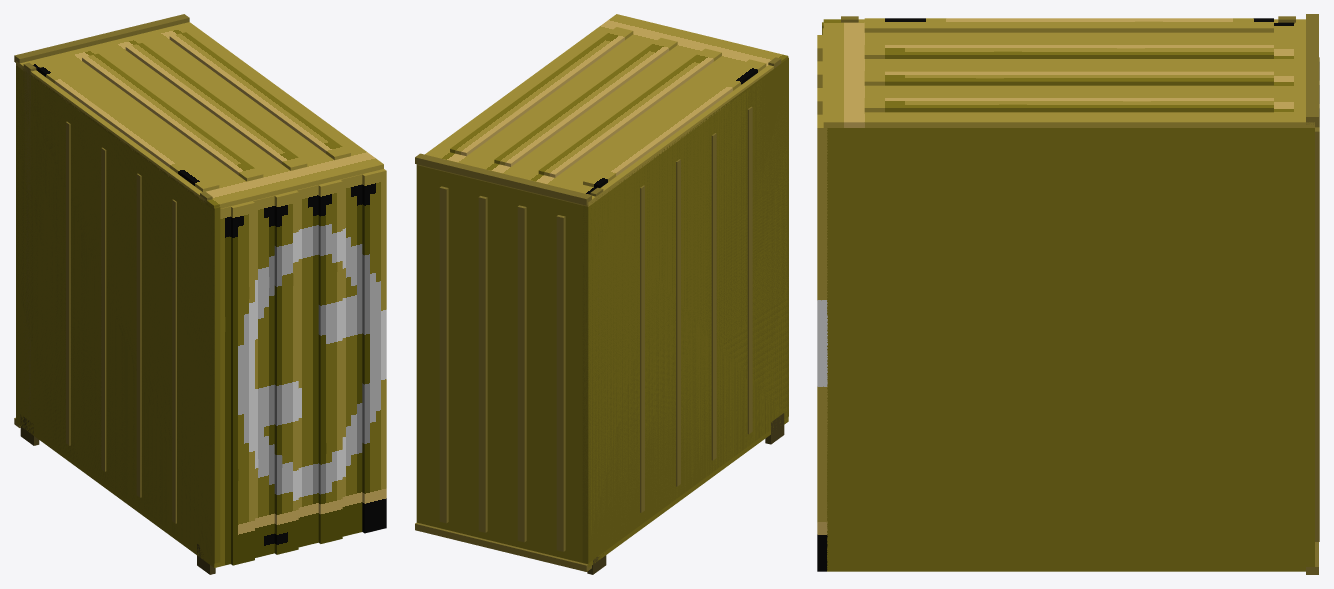
File: CMU3DFreightAU14ContainerSeegsonLeft.glb
3 views of the same model, side by side, from view 1: azimuth 30°, elevation 25°; view 2: azimuth 150°, elevation 25°; view 3: azimuth 270°, elevation 25° (orthographic). The views are drawn at different scales.
Parts seen in each view (by area): view 1: closed cargo shell, source-painted corrugated roof, outer end wall, painted corrugation 8, painted corrugation 6, painted corrugation 4, painted corrugation 2, painted corrugation 7, painted corrugation 5, painted corrugation 3, end wall rib (×4), painted corrugation 1 (+6 smaller); view 2: closed cargo shell, outer end wall, source-painted corrugated roof, rear wall corrugation (×4), end wall rib (×4), rear horizontal frame (×2), source-painted roof ridge 2, source-painted roof ridge 3, source-painted roof ridge 1, source-painted roof ridge 4; view 3: closed cargo shell, source-painted corrugated roof, source-painted roof ridge 1, source-painted roof ridge 3, source-painted roof ridge 4, source-painted roof ridge 2, painted corrugation 8, rear wall corrugation, rear horizontal frame.
Part boxes in pixels (box(x1,y1,x2,y2)): closed cargo shell: box(16, 66, 212, 565); source-painted corrugated roof: box(16, 22, 383, 209); outer end wall: box(16, 64, 220, 563); painted corrugation 8: box(362, 169, 386, 533); painted corrugation 6: box(318, 179, 342, 543); painted corrugation 4: box(274, 190, 298, 554); painted corrugation 2: box(231, 201, 254, 565); painted corrugation 7: box(340, 174, 362, 536); painted corrugation 5: box(296, 185, 318, 547); painted corrugation 3: box(253, 195, 274, 557); end wall rib (×4): box(66, 121, 176, 523); painted corrugation 1: box(212, 206, 230, 567); closed cargo shell: box(416, 78, 786, 567); outer end wall: box(582, 57, 788, 563); source-painted corrugated roof: box(416, 14, 788, 206); rear wall corrugation (×4): box(439, 186, 565, 551); end wall rib (×4): box(640, 106, 752, 512); rear horizontal frame (×2): box(415, 153, 591, 571); source-painted roof ridge 2: box(538, 48, 721, 177); source-painted roof ridge 3: box(494, 38, 677, 166); source-painted roof ridge 1: box(583, 59, 766, 187); source-painted roof ridge 4: box(450, 27, 633, 156); closed cargo shell: box(827, 128, 1314, 571); source-painted corrugated roof: box(823, 19, 1314, 127); source-painted roof ridge 1: box(864, 18, 1273, 32); source-painted roof ridge 3: box(864, 71, 1273, 85); source-painted roof ridge 4: box(864, 98, 1273, 112); source-painted roof ridge 2: box(864, 45, 1273, 58); painted corrugation 8: box(817, 114, 827, 571); rear wall corrugation: box(1315, 127, 1319, 541); rear horizontal frame: box(1306, 14, 1318, 124).
Size of the model in its own units: 0.9768 by 2.05 by 2.
Materials: 15 (11 with a texture image).
